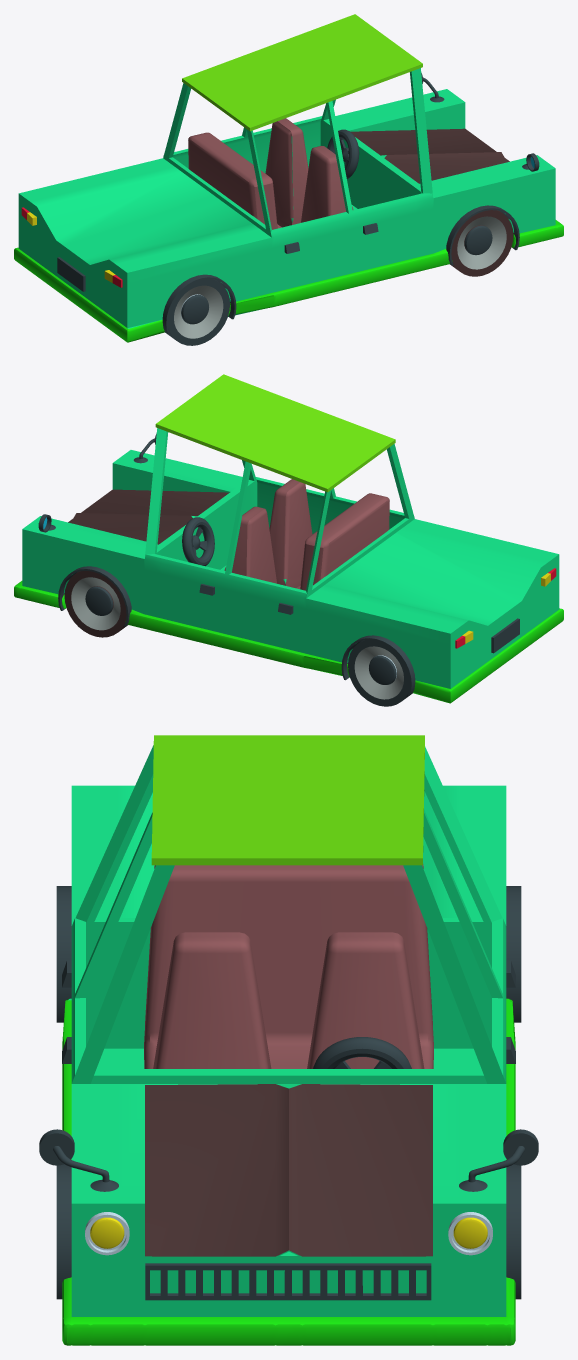
The model's file is Car6.fbx.
3 views of the same model, one above another, from view 1: azimuth 30°, elevation 25°; view 2: azimuth 150°, elevation 25°; view 3: azimuth 270°, elevation 25° (orthographic). The views are drawn at different scales.
Visible parts, largest first — view 1: Cube; view 2: Cube; view 3: Cube.
Boxes of the visible parts, left/top/right/bottom form: Cube: left=14, top=14, right=563, bottom=345; Cube: left=14, top=374, right=563, bottom=706; Cube: left=39, top=735, right=538, bottom=1345.
Size of the model in its own units: 468 by 209 by 230.
